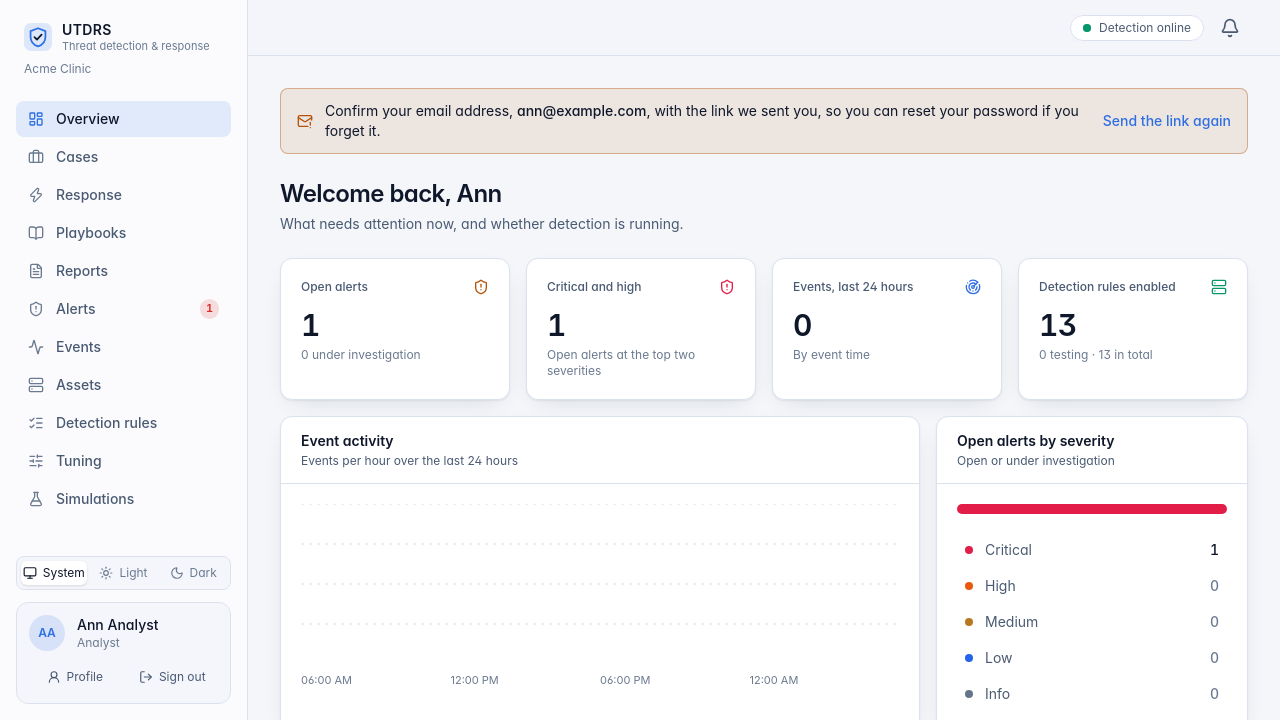
Test: account emails › asks someone signed in to confirm their address
Click the button "Send the link again".
click(1167, 121)  # box [1103,111,1231,131]
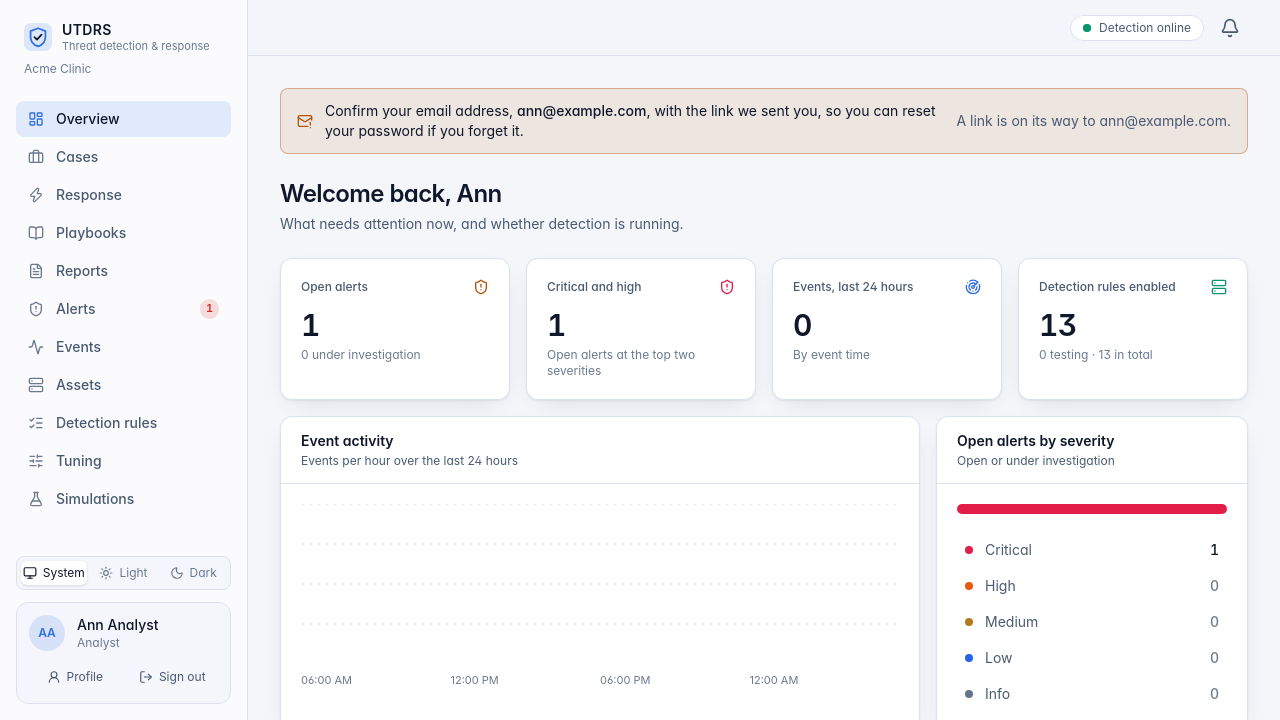
Now the text "A link is on its way to ann@example.com." is shown, box [956,111,1231,131]
